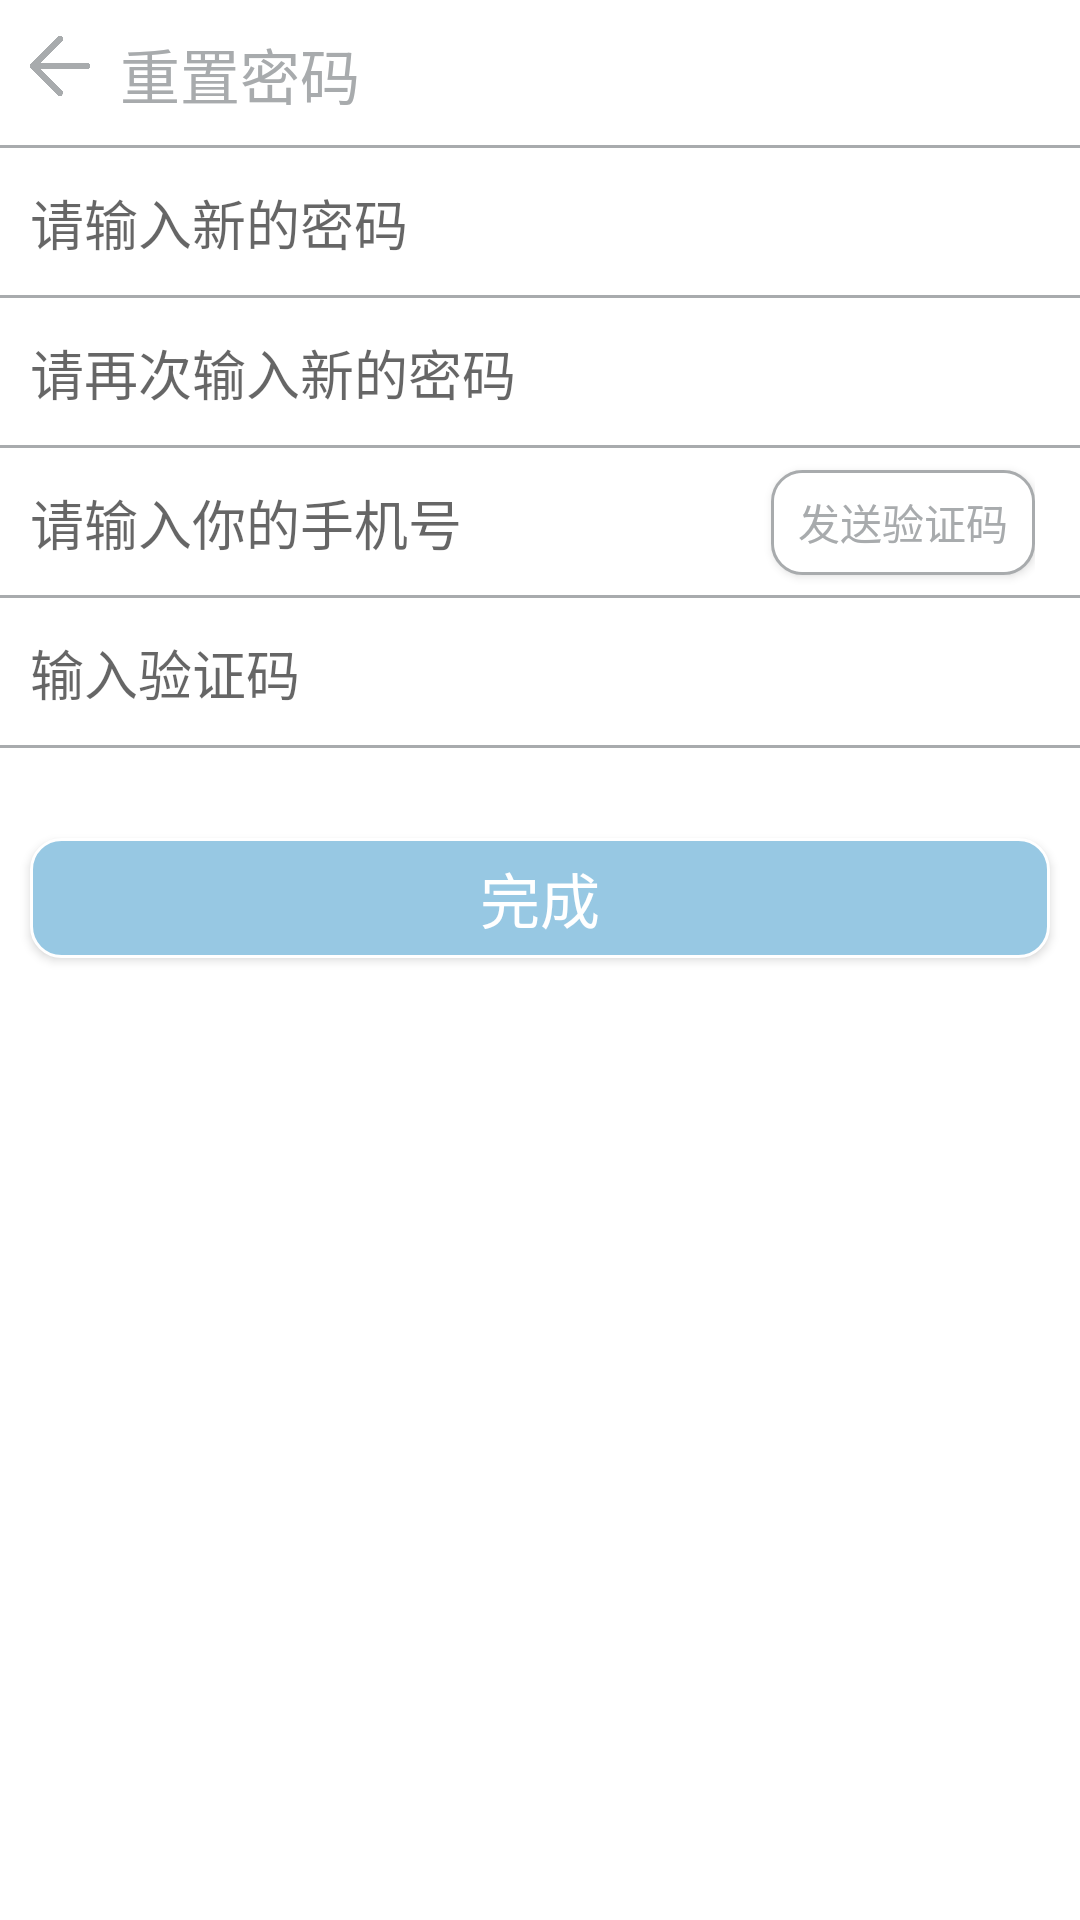

Named icons in this screenshot (1080 x 1920) and their centers, (x,y):
back: (60,66)
